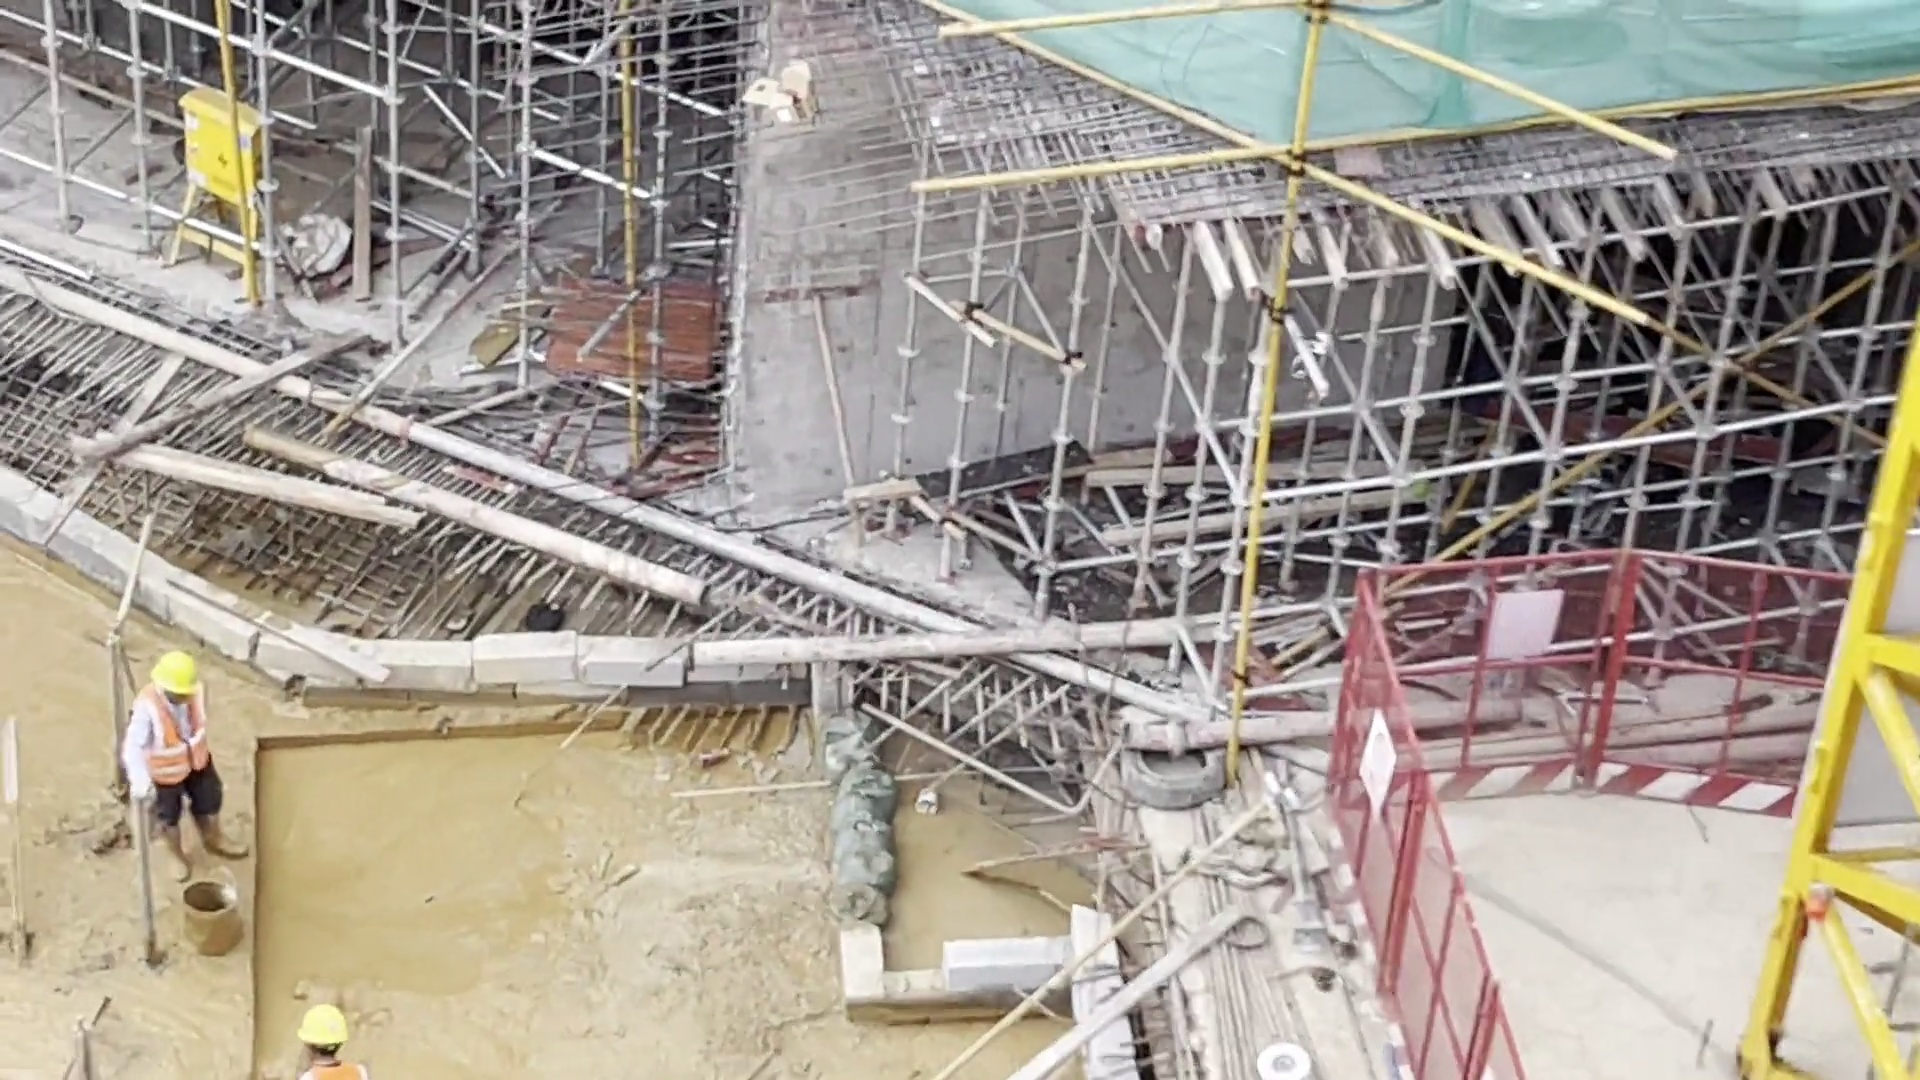ebox: (169, 76, 273, 223)
fence: (1356, 548, 1843, 815), (1295, 578, 1533, 1080)
helmet: (296, 1002, 352, 1052), (151, 653, 200, 697)
person: (133, 646, 218, 880), (283, 1001, 372, 1080)
vest: (132, 698, 208, 790)
